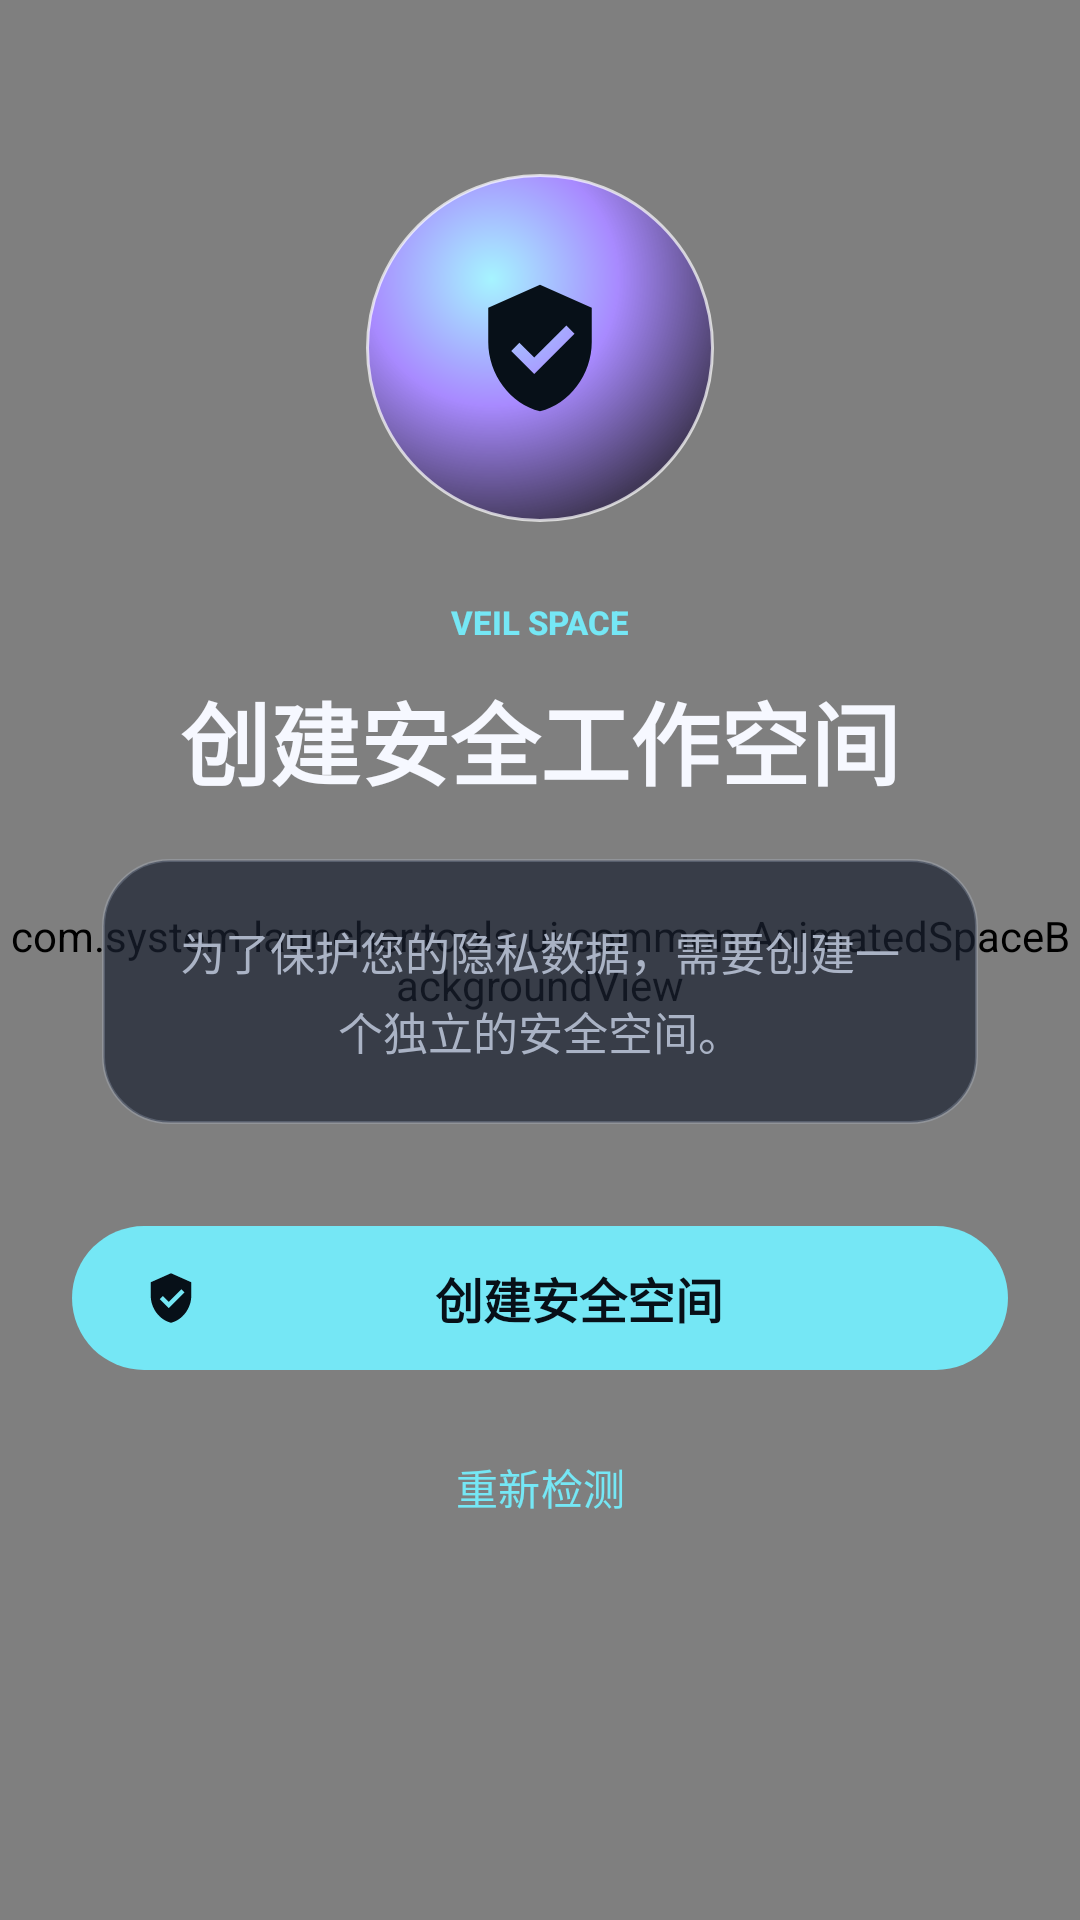

Named icons in this screenshot (1080x1920) and their centers, point (x, y):
安全空间: point (540, 348)
